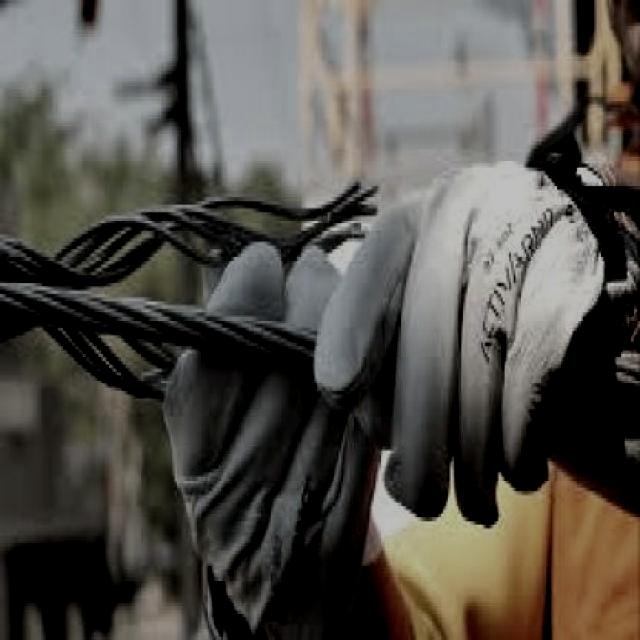Gloves: (320, 138, 588, 520), (164, 215, 387, 637)
